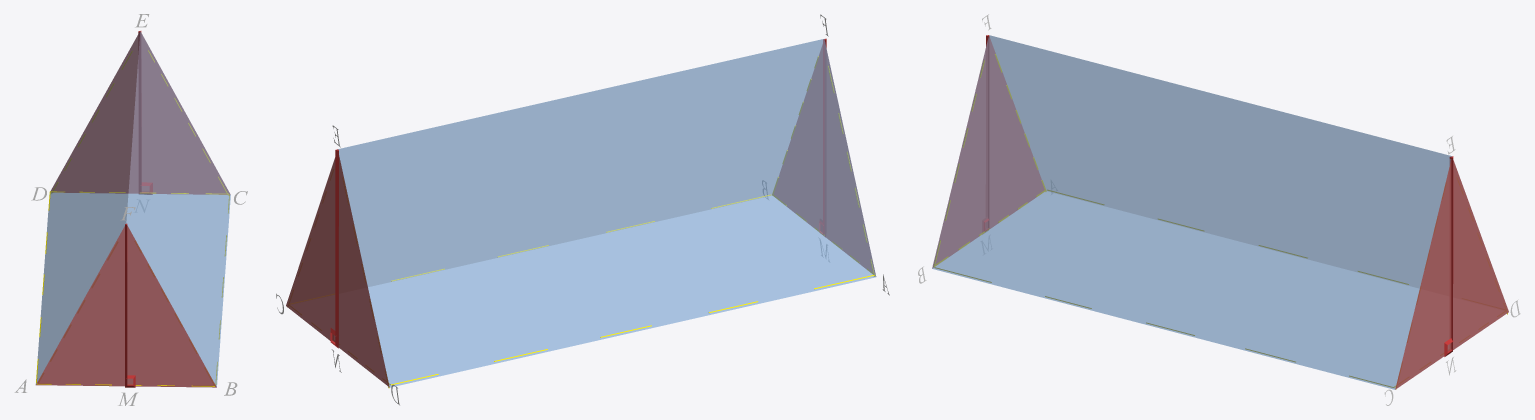
The model's file is prism_3.glb.
The picture shows the model from 3 angles, left to right: view 1: azimuth 30°, elevation 25°; view 2: azimuth 150°, elevation 25°; view 3: azimuth 270°, elevation 25°; orthographic projection. The views are drawn at different scales.
Parts seen in each view (by area): view 1: Prism001, Line009, Line011; view 2: Prism001, Line009; view 3: Prism001, Line009.
Part boxes in pixels (x1,y1,x2,y2): Prism001: (35,31,230,387); Line009: (138,31,152,194); Line011: (125,224,135,387); Prism001: (286,39,876,387); Line009: (330,149,338,348); Prism001: (932,35,1508,389); Line009: (1444,156,1453,356).
Bounding box in the file's own units: 43.27 × 22.23 × 51.08.
